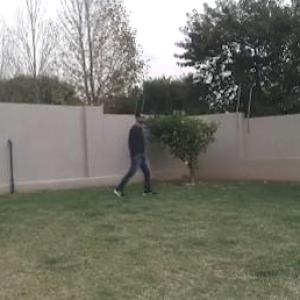follow: (126, 101, 150, 200)
